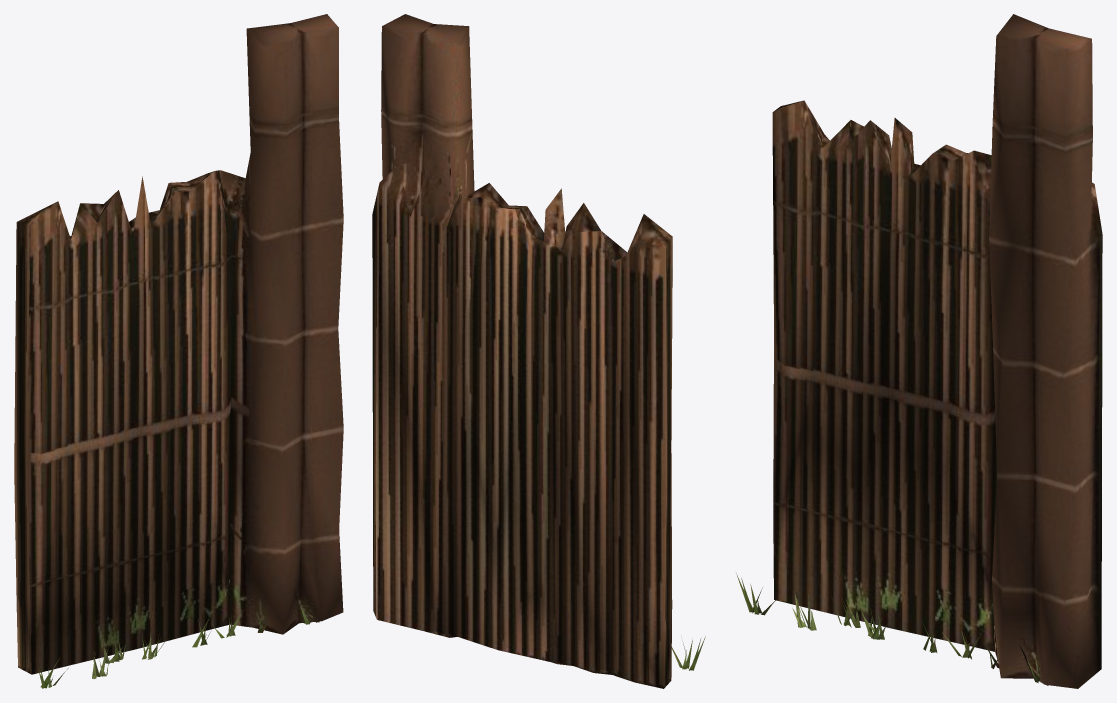
The model's file is fence_reed_end_e_pair_far.glb.
3 views of the same model, side by side, from view 1: azimuth 30°, elevation 25°; view 2: azimuth 150°, elevation 25°; view 3: azimuth 330°, elevation 25° (orthographic). The views are drawn at different scales.
Visible parts, largest first — view 1: fence_reed_end_e_pair_lod1; view 2: fence_reed_end_e_pair_lod1; view 3: fence_reed_end_e_pair_lod1.
Part boxes in pixels (<box>): fence_reed_end_e_pair_lod1: <box>14,14,343,688</box>; fence_reed_end_e_pair_lod1: <box>372,14,705,688</box>; fence_reed_end_e_pair_lod1: <box>736,14,1102,688</box>.
Size of the model in its own units: 1.04 by 1.87 by 0.2011.
1 material, 1 textured.
